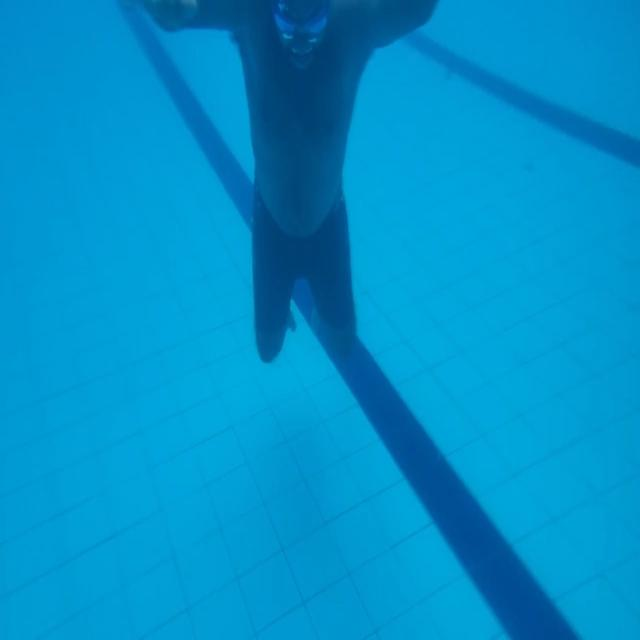Drowning: (138, 2, 442, 365)
